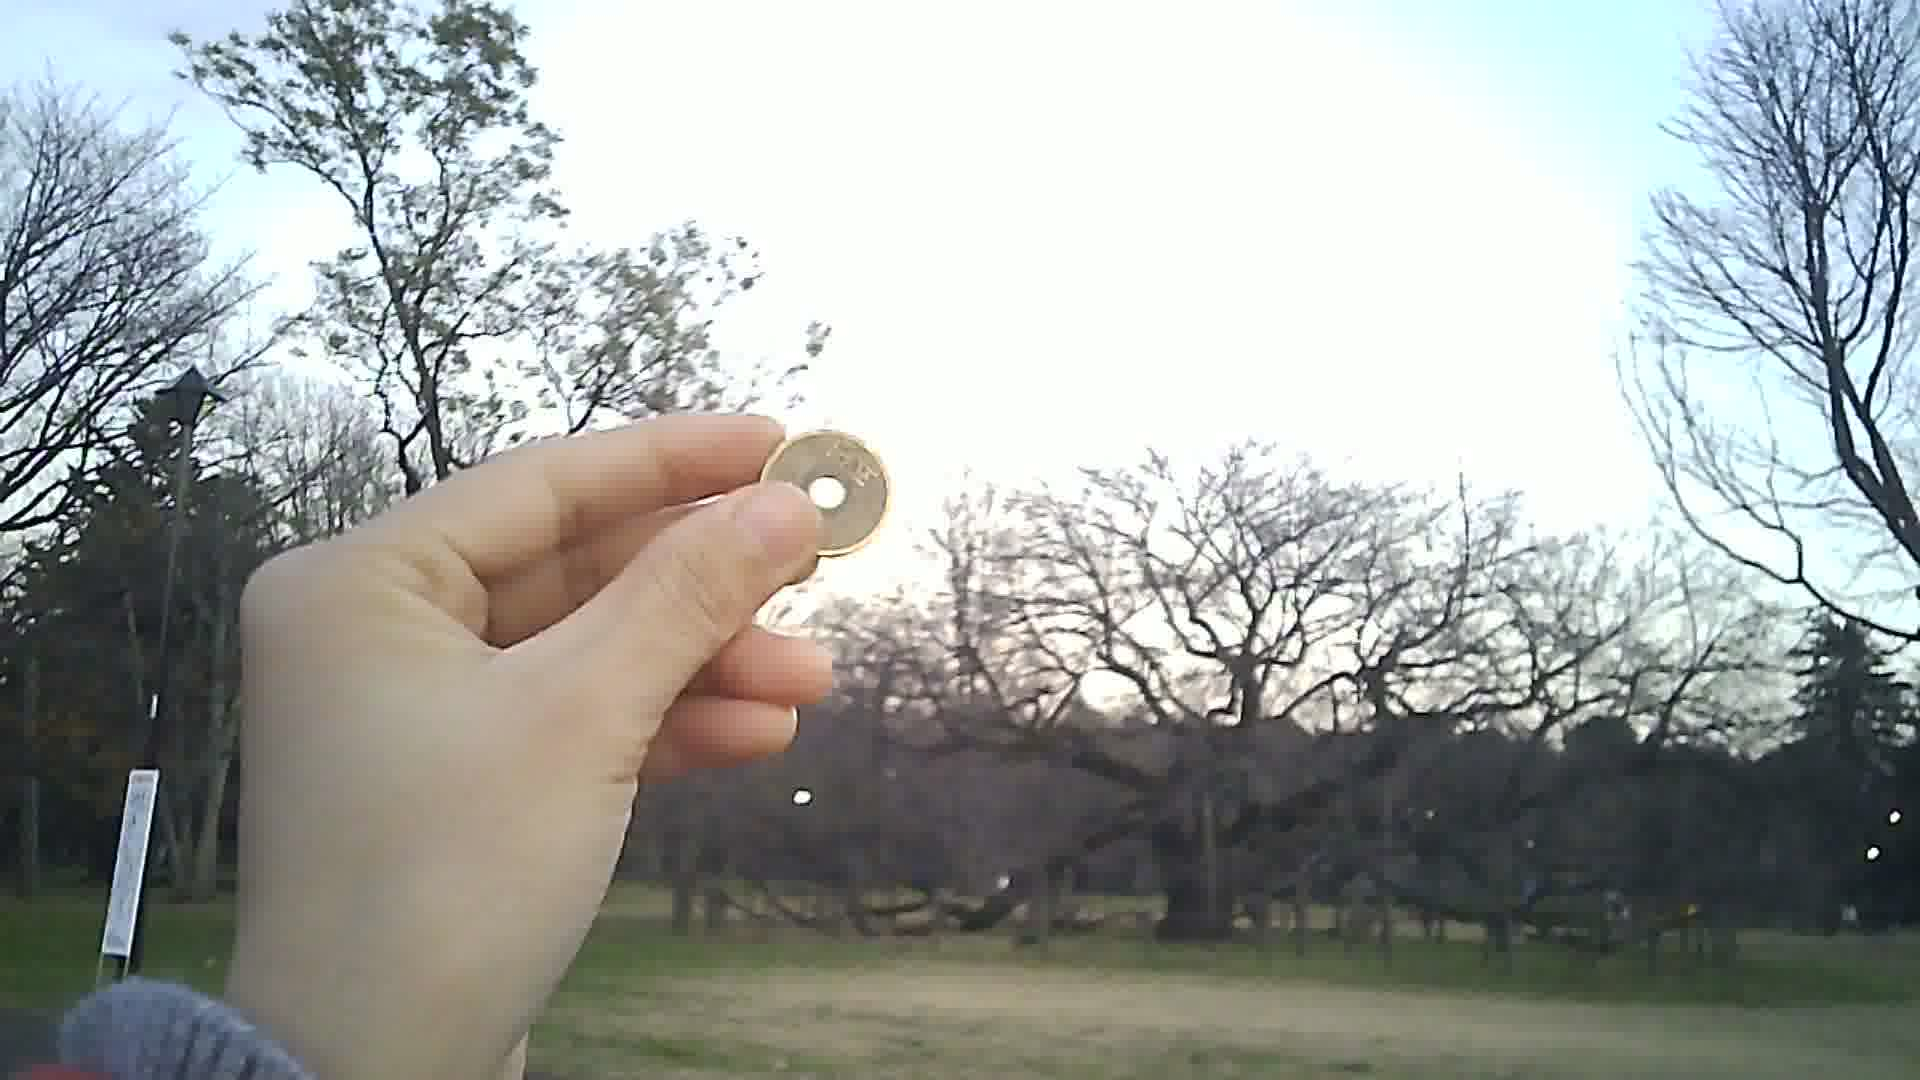5 Yen: (760, 425, 895, 560)
